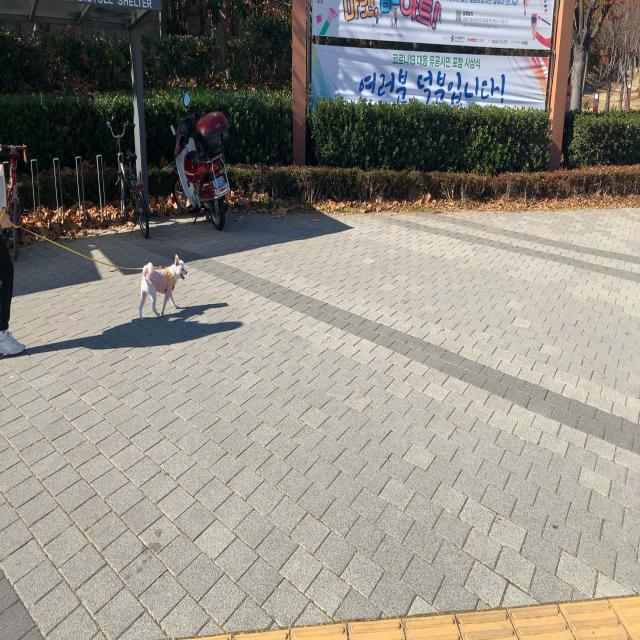Leashed_Dog: (0, 178, 188, 320)
